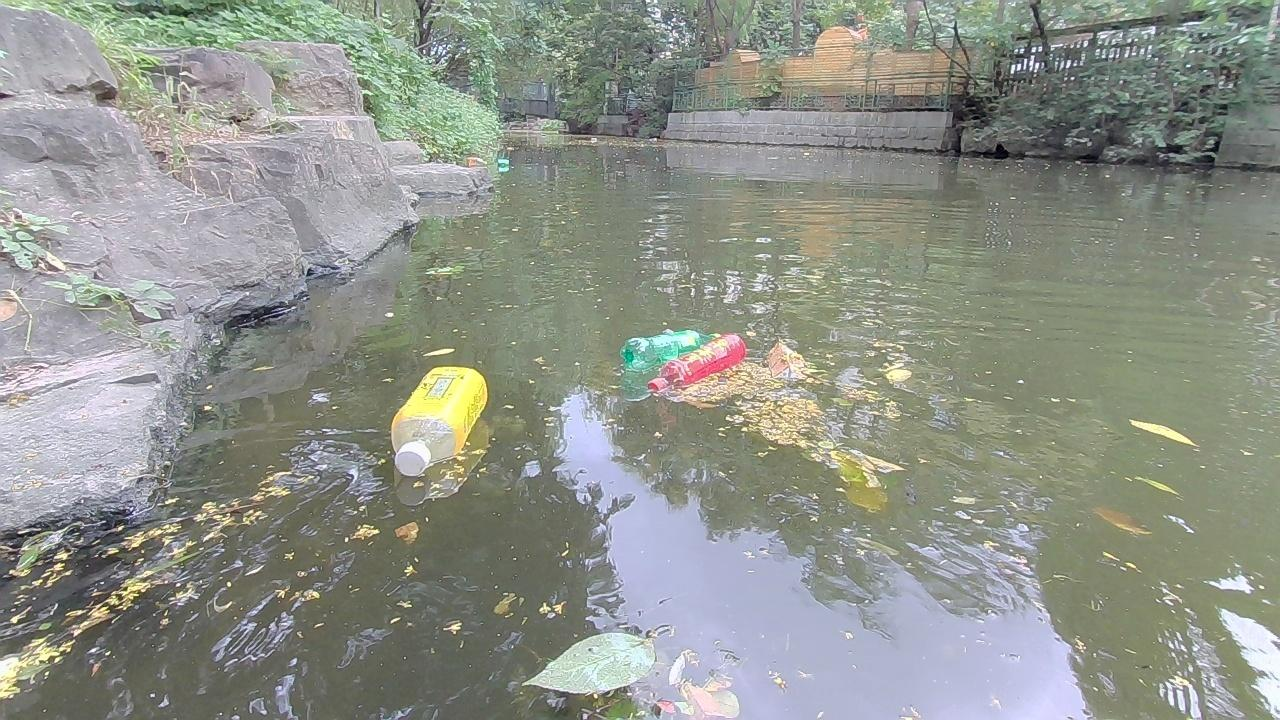bottle: (388, 363, 487, 477), (646, 334, 747, 393), (620, 326, 704, 368), (465, 156, 486, 166), (494, 156, 505, 165)
